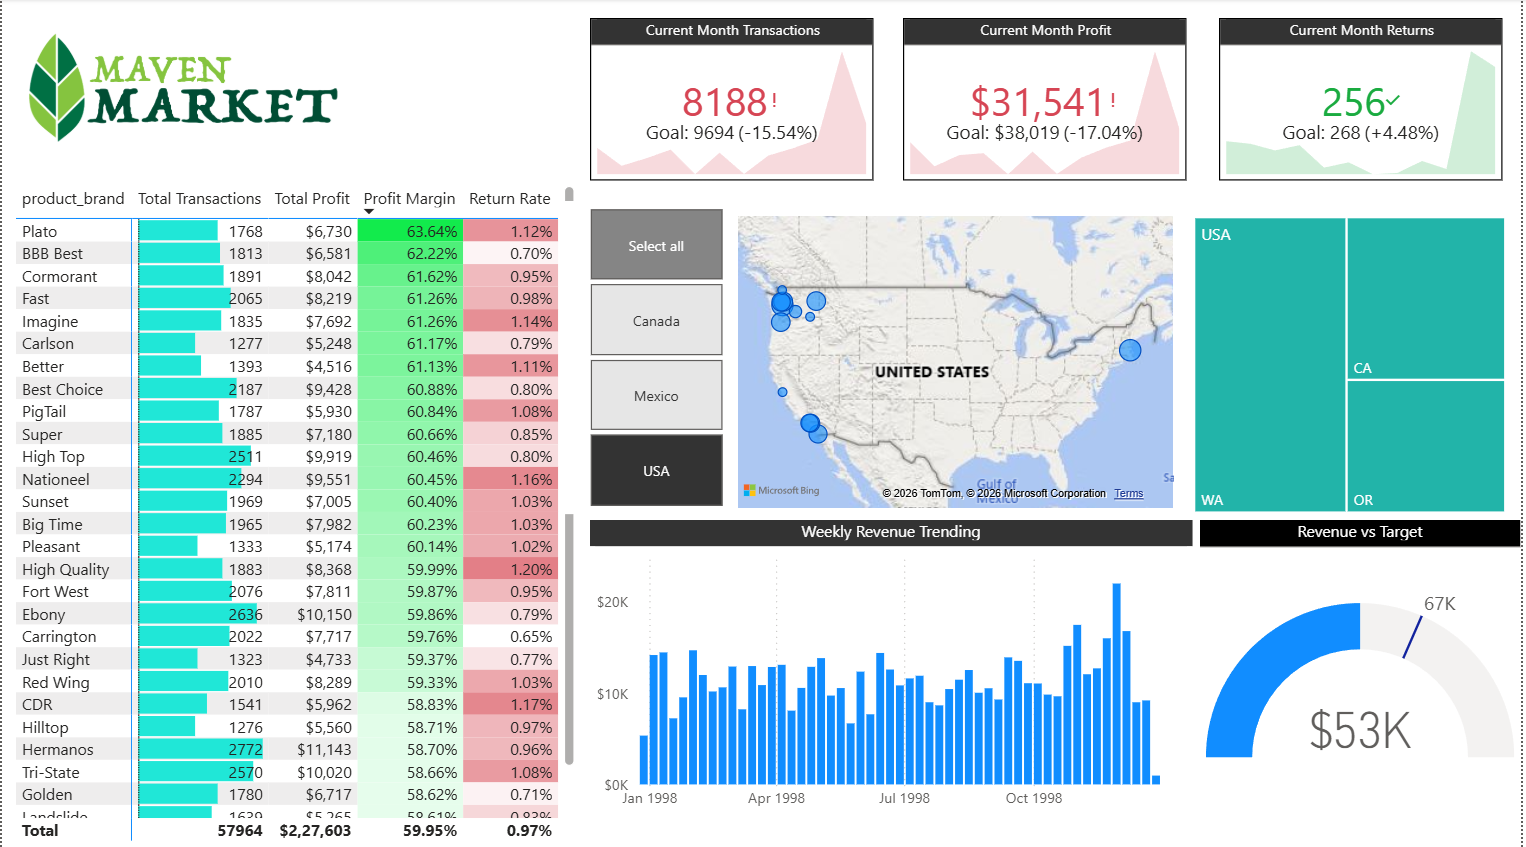

The page's visual inventory and layout, read from the dashboard file:
{"tool":"powerbi","page":{"name":"Topline Performance ","canvas":[1280,720],"ordinal":0},"visuals":[{"type":"image","box":[15.2,3.4,273.2,141.6],"z":0},{"type":"pivotTable","fields":{"Rows":["Products.product_brand"],"Values":["Transaction_Data.Total Transactions","Transaction_Data.Total Profit","Transaction_Data.Profit Margin","Transaction_Data.Return Rate"]},"box":[6.7,152.6,480.6,562.3],"z":1000},{"type":"kpi","title":"Current Month Transactions","fields":{"Indicator":["Transaction_Data.Total Transactions"],"TrendLine":["Calendar.Start of Month"],"Goal":["Transaction_Data.Last Month Transactions"]},"box":[495.8,15.9,239.1,136.7],"z":2000},{"type":"kpi","title":"Current Month Profit","fields":{"Indicator":["Transaction_Data.Total Profit"],"Goal":["Transaction_Data.Last Month Profit"],"TrendLine":["Calendar.Start of Month"]},"box":[759.5,15.9,239.1,136.7],"z":3000},{"type":"kpi","title":"Current Month Returns","fields":{"TrendLine":["Calendar.Start of Month"],"Indicator":["Return_Data.Total Returns"],"Goal":["Transaction_Data.Last Month Returns"]},"box":[1025.9,15.9,239.1,136.7],"z":4000},{"type":"slicer","fields":{"Values":["Stores.store_country"]},"box":[470.2,170.3,160.6,263.8],"z":5000},{"type":"treemap","fields":{"Group":["Stores.store_country"],"Values":["Transaction_Data.Total Transactions"],"Details":["Stores.store_state"]},"box":[999.5,178.2,274.3,261.1],"z":6000},{"type":"columnChart","title":"Weekly Revenue Trending","fields":{"Category":["Calendar.Start of Week"],"Y":["Transaction_Data.Total Revenue"]},"box":[495.7,439.3,507.5,252.9],"z":7000},{"type":"gauge","title":"Revenue vs Target","fields":{"Y":["Transaction_Data.Total Revenue"],"TargetValue":["Transaction_Data.Revenue Target"]},"box":[1010.1,439.3,269.9,230.2],"z":8000},{"type":"map","fields":{"Category":["Stores.store_city"],"Size":["Transaction_Data.Total Transactions"]},"box":[615.5,177.9,376.9,256.3],"z":9000}]}

Visuals, with their boxes in screenshot pixels (x1, y1, x2, y2), scaled from the page's 1280x720 canvas onto the 1526x847 screenshot:
image: [left=18, top=4, right=344, bottom=171]
pivotTable - Products.product_brand x Transaction_Data.Total Transactions: [left=8, top=180, right=581, bottom=841]
"Current Month Transactions" kpi: [left=591, top=19, right=876, bottom=180]
"Current Month Profit" kpi: [left=905, top=19, right=1191, bottom=180]
"Current Month Returns" kpi: [left=1223, top=19, right=1508, bottom=180]
slicer - Stores.store_country: [left=561, top=200, right=752, bottom=511]
treemap - Stores.store_country x Transaction_Data.Total Transactions: [left=1192, top=210, right=1519, bottom=517]
"Weekly Revenue Trending" columnChart: [left=591, top=517, right=1196, bottom=814]
"Revenue vs Target" gauge: [left=1204, top=517, right=1525, bottom=788]
map - Stores.store_city x Transaction_Data.Total Transactions: [left=734, top=209, right=1183, bottom=511]
